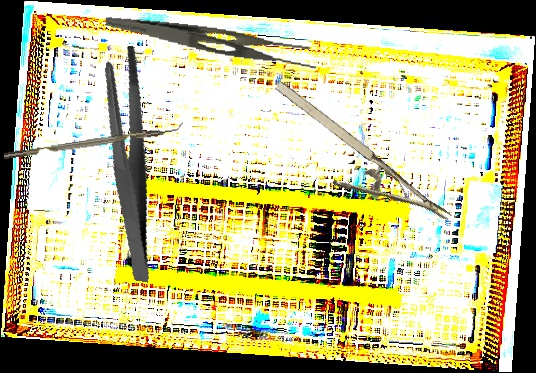Chopper: (2, 118, 185, 160)
Dressing Forceps: (70, 42, 188, 283), (102, 15, 320, 73)
Needle Holder: (252, 75, 452, 256)
